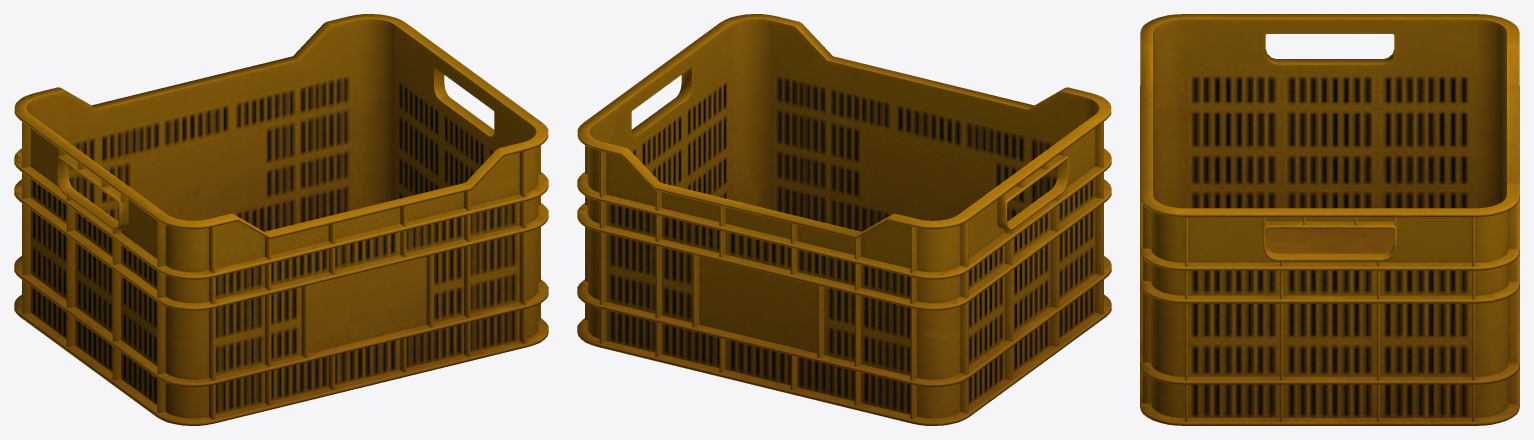
File: plastic_crate_02.glb
3 renders of one model, left to right at view 1: azimuth 30°, elevation 25°; view 2: azimuth 150°, elevation 25°; view 3: azimuth 270°, elevation 25°, orthographic. The views are drawn at different scales.
Parts seen in each view (by area): view 1: plastic_crate_02; view 2: plastic_crate_02; view 3: plastic_crate_02.
Boxes of the visible parts, left/top/right/bottom form: plastic_crate_02: left=14, top=14, right=548, bottom=425; plastic_crate_02: left=577, top=14, right=1111, bottom=425; plastic_crate_02: left=1140, top=14, right=1519, bottom=425.
Bounding box in the file's own units: 0.5055 × 0.2541 × 0.4055.
1 material, 1 textured.
